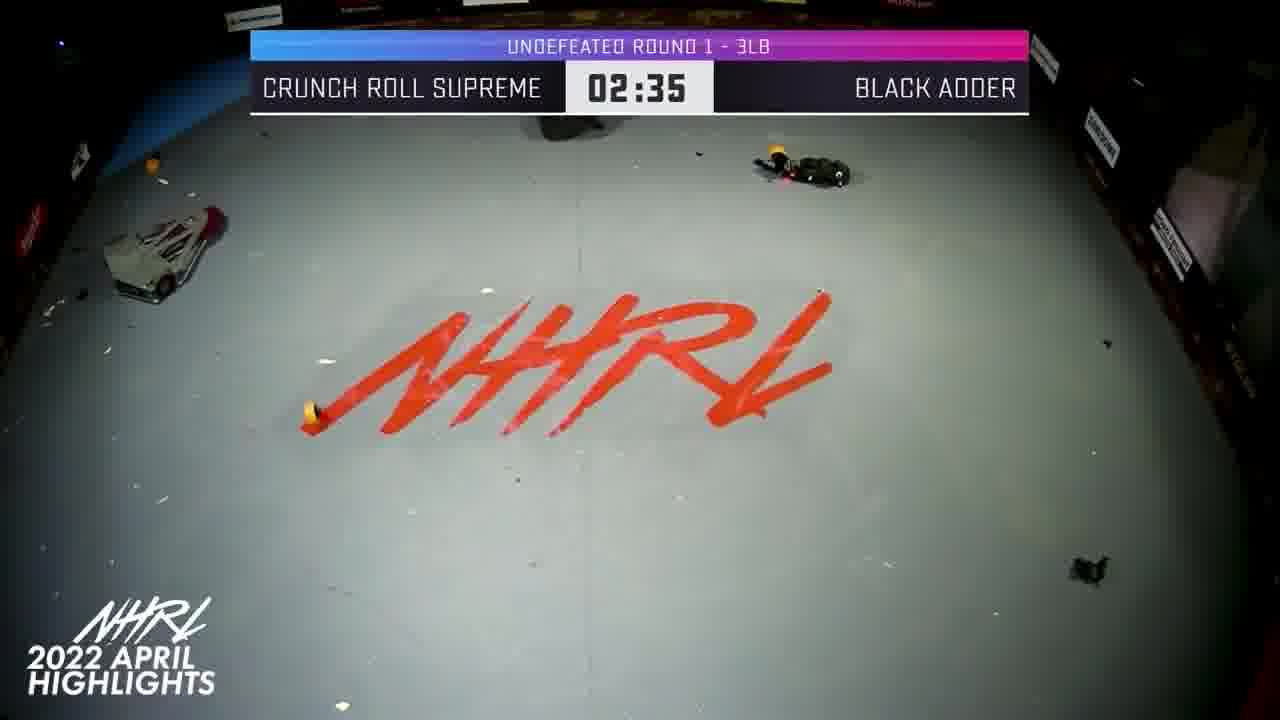combatbot: (106, 206, 230, 304), (750, 149, 851, 191), (538, 117, 613, 142)
debris: (1068, 552, 1112, 586), (302, 404, 319, 426)
